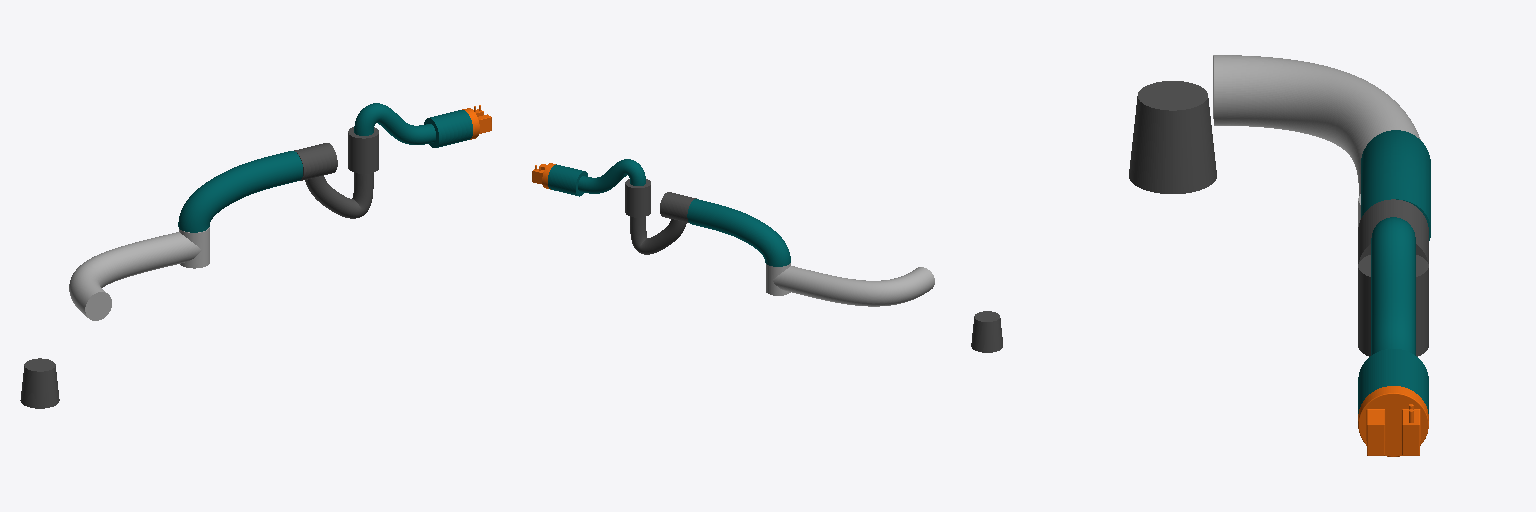
The robot description file, URDF, robot "custom_6r":
<?xml version="1.0" encoding="UTF-8"?>
<robot name="custom_6r">
  
  <!--
  Initial assembly generated from the supplied STL meshes and joint data.
  
  Assumption for this first version:
  - Each STL is expressed in its corresponding link frame.
  - Therefore visual/collision mesh origins are xyz="0 0 0", rpy="0 0 0".
  - The joint origins below are used exactly as supplied and are relative
  to their parent link frames, as required by URDF.
  
  Units:
  - STL geometry appears to be in metres.
  - URDF distances are metres and angles are radians.
  -->
  
  <material name="color_1">
  <color rgba="0.35 0.35 0.35 1.0"/>
  </material>
  <material name="kuka_orange">
  <color rgba="0.95 0.45 0.08 1.0"/>
  </material>
  <material name="color_1">
  <color rgba="0.20 0.22 0.23 1.0"/>
  </material>
  
  <material name="color_2">
  <color rgba="0.05 0.42 0.43 1.0"/>
  </material>
  
  <material name="gray_white">
  <color rgba="0.7 0.7 0.7 1.0"/>
  </material>
  
  <link name="base_link">
  <visual>
  <origin xyz="0 0 0" rpy="0 0 0"/>
  <geometry>
  <mesh filename="package://custom_6r_description/meshes/base_link.stl"/>
  </geometry>
  <material name="color_1"/>
  </visual>
  <collision>
  <origin xyz="0 0 0" rpy="0 0 0"/>
  <geometry>
  <mesh filename="package://custom_6r_description/meshes/base_link.stl"/>
  </geometry>
  </collision>
  </link>
  
  <link name="link_1">
  <visual>
  <origin xyz="0 0 0" rpy="0 0 0"/>
  <geometry>
  <mesh filename="package://custom_6r_description/meshes/link_1.stl"/>
  </geometry>
  <material name="color_2"/>
  </visual>
  <collision>
  <origin xyz="0 0 0" rpy="0 0 0"/>
  <geometry>
  <mesh filename="package://custom_6r_description/meshes/link_1.stl"/>
  </geometry>
  </collision>
  </link>
  
  <joint name="joint_1" type="revolute">
  <parent link="base_link"/>
  <child link="link_1"/>
  <origin xyz="0 0 0.5" rpy="0 0 0"/>
  <axis xyz="0 0 1"/>
  <limit lower="-3.141592653589793" upper="3.141592653589793" effort="100" velocity="2.0"/>
  </joint>
  
  <link name="link_2">
  <visual>
  <origin xyz="0 0.25 0" rpy="0 0 -1.5707"/>
  <geometry>
  <mesh filename="package://custom_6r_description/meshes/link_2.stl" scale="1 1 1"/>
  </geometry>
  <material name="gray_white"/>
  </visual>
  <collision>
  <origin xyz="0 0 0" rpy="0 0 0"/>
  <geometry>
  <mesh filename="package://custom_6r_description/meshes/link_2.stl"/>
  </geometry>
  </collision>
  </link>
  
  <joint name="joint_2" type="revolute">
  <parent link="link_1"/>
  <child link="link_2"/>
  <origin xyz="1 0 0.5" rpy="0 0 0"/>
  <axis xyz="0 1 0"/>
  <limit lower="-3.141592653589793" upper="3.141592653589793" effort="100" velocity="2.0"/>
  </joint>
  
  <link name="link_3_d3">
  <visual>
  <origin xyz="0 0 0.25" rpy="0 0 0"/>
  <geometry>
  <mesh filename="package://custom_6r_description/meshes/link_3_d3.stl" scale="1 1 1"/>
  </geometry>
  <material name="color_2"/>
  </visual>
  <collision>
  <origin xyz="0 0 0" rpy="0 0 0"/>
  <geometry>
  <mesh filename="package://custom_6r_description/meshes/link_3_d3.stl"/>
  </geometry>
  </collision>
  </link>
  
  <joint name="joint_3" type="revolute">
  <parent link="link_2"/>
  <child link="link_3_d3"/>
  <origin xyz="2 1.25 0.0" rpy="0 0 0"/>
  <axis xyz="0 0 1"/>
  <limit lower="-3.141592653589793" upper="3.141592653589793" effort="100" velocity="2.0"/>
  </joint>
  
  <!-- joint 4 -->
  <link name="link_4">
  <visual>
  <origin xyz="0 0 0" rpy="0 1.5707 0"/>
  <geometry>
  <mesh filename="package://custom_6r_description/meshes/link_4.stl" scale="1 1 1"/>
  </geometry>
  <material name="color_1"/>
  </visual>
  <collision>
  <origin xyz="0 0 0" rpy="0 0 0"/>
  <geometry>
  <mesh filename="package://custom_6r_description/meshes/link_4.stl"/>
  </geometry>
  </collision>
  </link>
  
  <joint name="joint_4" type="revolute">
  <parent link="link_3_d3"/>
  <child link="link_4"/>
  <origin xyz="1.5 0 0.75" rpy="0 0 0"/>
  <axis xyz="1 0 0"/>
  <limit lower="-3.141592653589793" upper="3.141592653589793" effort="100" velocity="2.0"/>
  </joint>
  
  <!-- joint 5 -->
  <link name="link_5">
  <visual>
  <origin xyz="0 0 0.25" rpy="0 0 0"/>
  <geometry>
  <mesh filename="package://custom_6r_description/meshes/link_5.stl" scale="1 1 1"/>
  </geometry>
  <material name="color_2"/>
  </visual>
  <collision>
  <origin xyz="0 0 0" rpy="0 0 0"/>
  <geometry>
  <mesh filename="package://custom_6r_description/meshes/link_5.stl"/>
  </geometry>
  </collision>
  </link>
  
  <joint name="joint_5" type="revolute">
  <parent link="link_4"/>
  <child link="link_5"/>
  <origin xyz="1.0 0.0 0.0" rpy="0 0 0"/>
  <axis xyz="0 0 1"/>
  <limit lower="-3.141592653589793" upper="3.141592653589793" effort="100" velocity="2.0"/>
  </joint>
  
  <!-- joint 6 -->
  <link name="link_6">
  <visual>
  <origin xyz="0 0 0.0" rpy="0 1.5707 0"/>
  <geometry>
  <mesh filename="package://custom_6r_description/meshes/link_6.stl" scale="1 1 1"/>
  </geometry>
  <material name="kuka_orange"/>
  </visual>
  <collision>
  <origin xyz="0 0 0" rpy="0 0 0"/>
  <geometry>
  <mesh filename="package://custom_6r_description/meshes/link_6.stl"/>
  </geometry>
  </collision>
  </link>
  
  <joint name="joint_6" type="revolute">
  <parent link="link_5"/>
  <child link="link_6"/>
  <origin xyz="1.5 0.0 0.0" rpy="0 0 0"/>
  <axis xyz="1 0 0"/>
  <limit lower="-3.141592653589793" upper="3.141592653589793" effort="100" velocity="2.0"/>
  </joint>
  
  <!-- Convenient fixed end-effector frame at link_3 origin for now.
  Move this origin later if the actual TCP is elsewhere. -->
  <link name="tool0"/>
  <joint name="tool0_fixed_joint" type="fixed">
  <parent link="link_3_d3"/>
  <child link="tool0"/>
  <origin xyz="0.0 0.0 0.2" rpy="0 0 0"/>
  </joint>
  
</robot>

--- Render facts (derived) ---
3 views of the same robot in one strip: view 1: azimuth 30°, elevation 25°; view 2: azimuth 150°, elevation 25°; view 3: azimuth 270°, elevation 25° (orthographic).
Robot: custom_6r — 8 links, 7 joints (6 revolute, 1 fixed); root link base_link; default pose: every joint at zero.
Visible links, largest first — view 1: link_2, link_3_d3, link_4, link_5, base_link; view 2: link_2, link_3_d3, link_4, link_5, base_link; view 3: link_2, base_link, link_5, link_3_d3, link_4, link_6.
Boxes of the visible links, x1,y1,x2,y2 form: link_2: [69, 227, 209, 320]; link_3_d3: [178, 151, 302, 232]; link_4: [294, 127, 378, 218]; link_5: [354, 103, 472, 147]; base_link: [20, 358, 59, 408]; link_2: [766, 263, 934, 306]; link_3_d3: [687, 199, 790, 266]; link_4: [625, 179, 696, 254]; link_5: [548, 159, 645, 196]; base_link: [971, 311, 1002, 352]; link_2: [1213, 55, 1420, 226]; base_link: [1129, 81, 1216, 193]; link_5: [1358, 217, 1428, 413]; link_3_d3: [1361, 130, 1430, 240]; link_4: [1358, 199, 1428, 356]; link_6: [1358, 386, 1428, 456].
Bounding box of the posed robot: 7.55 × 1.71 × 2.35 m (x, y, z).
Meshes: 7 distinct files referenced, 6 mesh visuals loaded (6 binary STL); not drawn: 1 (reference not matched to a file when rendering).
